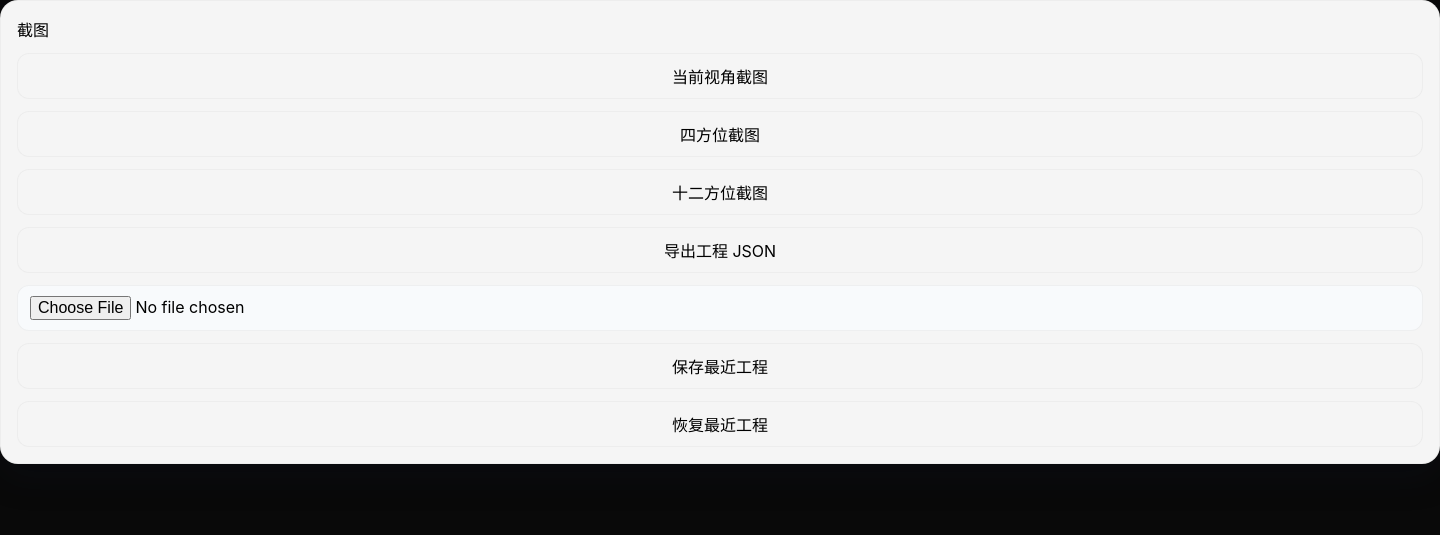
it: runs four-angle capture from the left screenshot panel
Click the button "四方位截图" at coordinates (720, 134), box left=17, top=111, right=1423, bottom=157
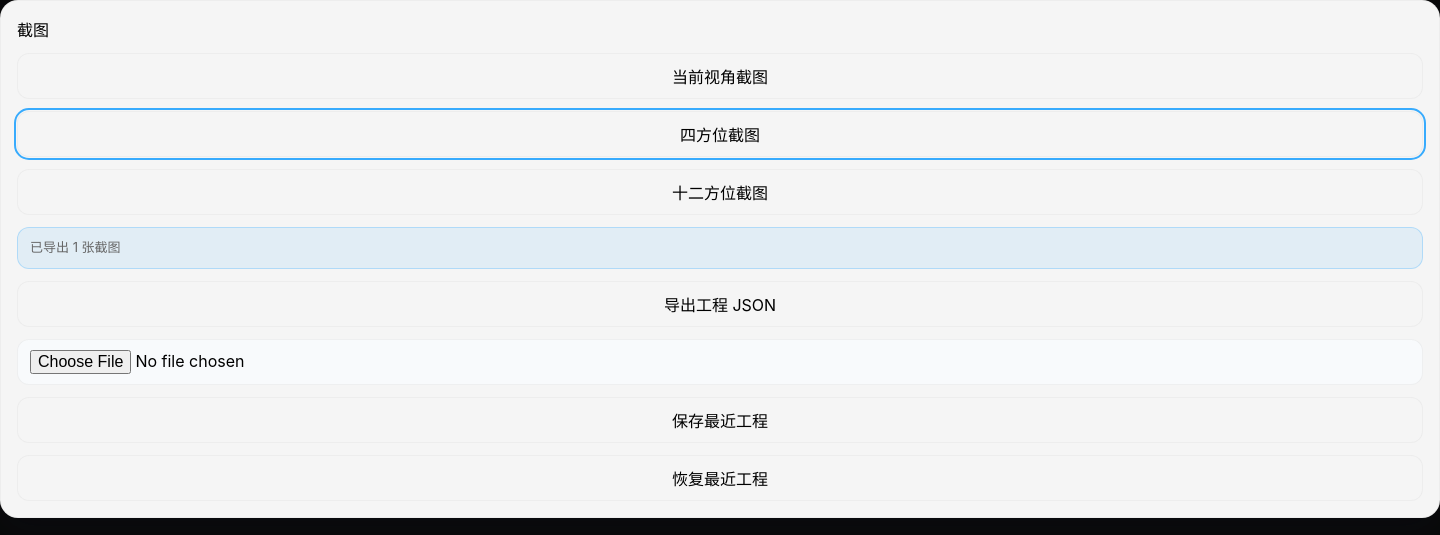
Result: the text "已导出 1 张截图" is shown at left=17, top=227, right=1423, bottom=268
